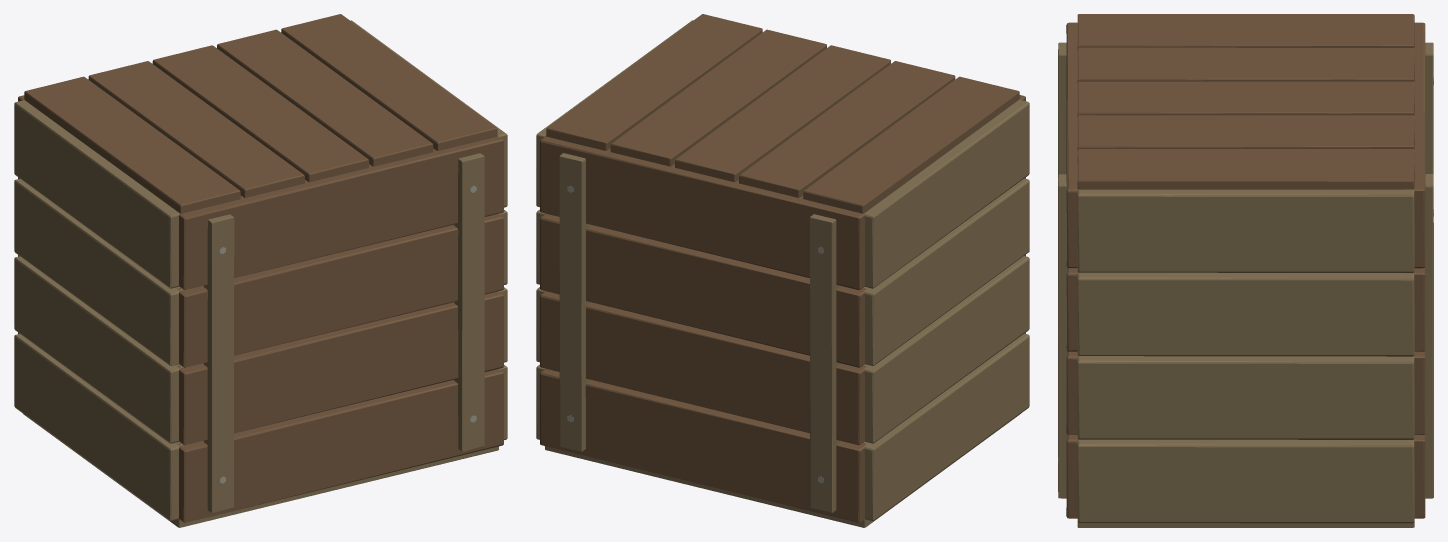
File: crate_low.glb
The picture shows the model from 3 angles, left to right: view 1: azimuth 30°, elevation 25°; view 2: azimuth 150°, elevation 25°; view 3: azimuth 270°, elevation 25°; orthographic projection. The views are drawn at different scales.
Parts seen in each view (by area): view 1: crate.001; view 2: crate.001; view 3: crate.001.
Part boxes in pixels (x1,y1,x2,y2): crate.001: (14, 14, 507, 527); crate.001: (536, 14, 1029, 527); crate.001: (1058, 14, 1433, 527).
Bounding box in the file's own units: 0.685 × 0.6246 × 0.6125.
